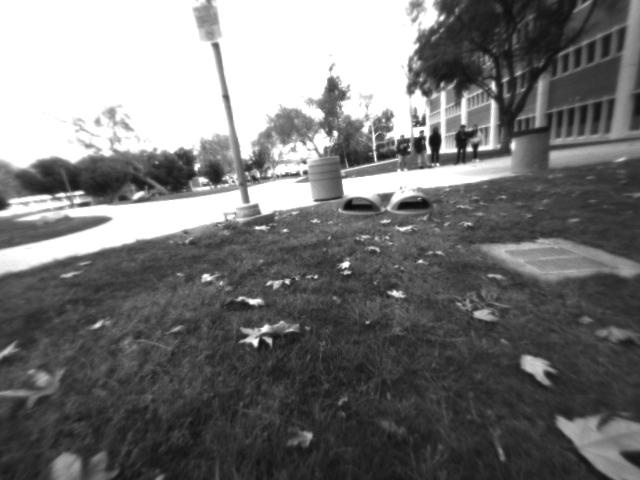trashcan: (505, 119, 556, 178), (302, 150, 347, 203)
